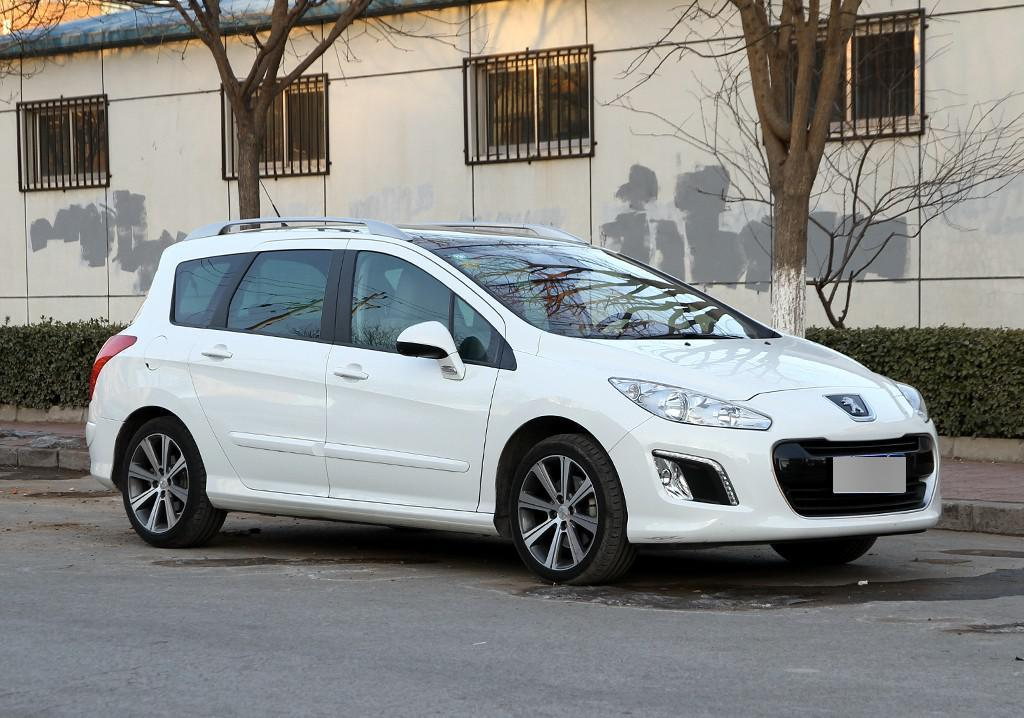Wagon: (83, 217, 941, 586)
